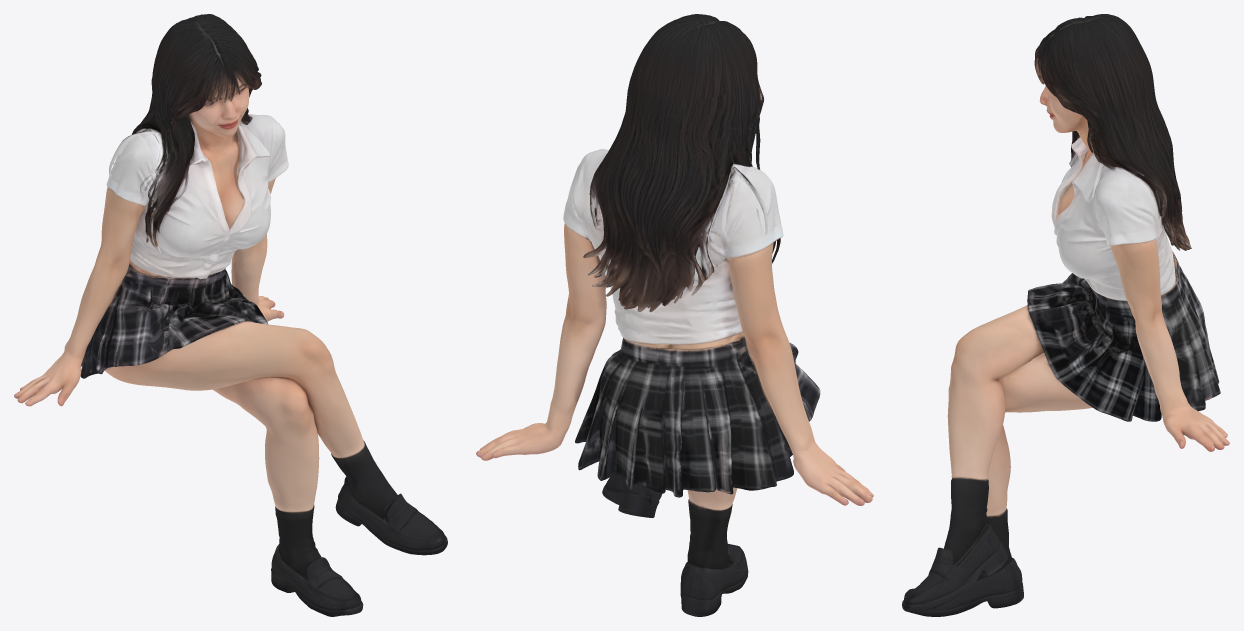
File: Mulher-vestida-colegial.glb
3 views of the same model, side by side, from view 1: azimuth 30°, elevation 25°; view 2: azimuth 150°, elevation 25°; view 3: azimuth 270°, elevation 25° (orthographic). The views are drawn at different scales.
Visible parts, largest first — view 1: Mesh_0_modddif_material_0_0; view 2: Mesh_0_modddif_material_0_0; view 3: Mesh_0_modddif_material_0_0.
Part boxes in pixels (x1,y1,x2,y2): Mesh_0_modddif_material_0_0: (14,14,447,616); Mesh_0_modddif_material_0_0: (476,14,873,616); Mesh_0_modddif_material_0_0: (902,14,1229,616).
Bounding box in the file's own units: 0.6237 × 1 × 0.5257.
1 material, 1 textured.
